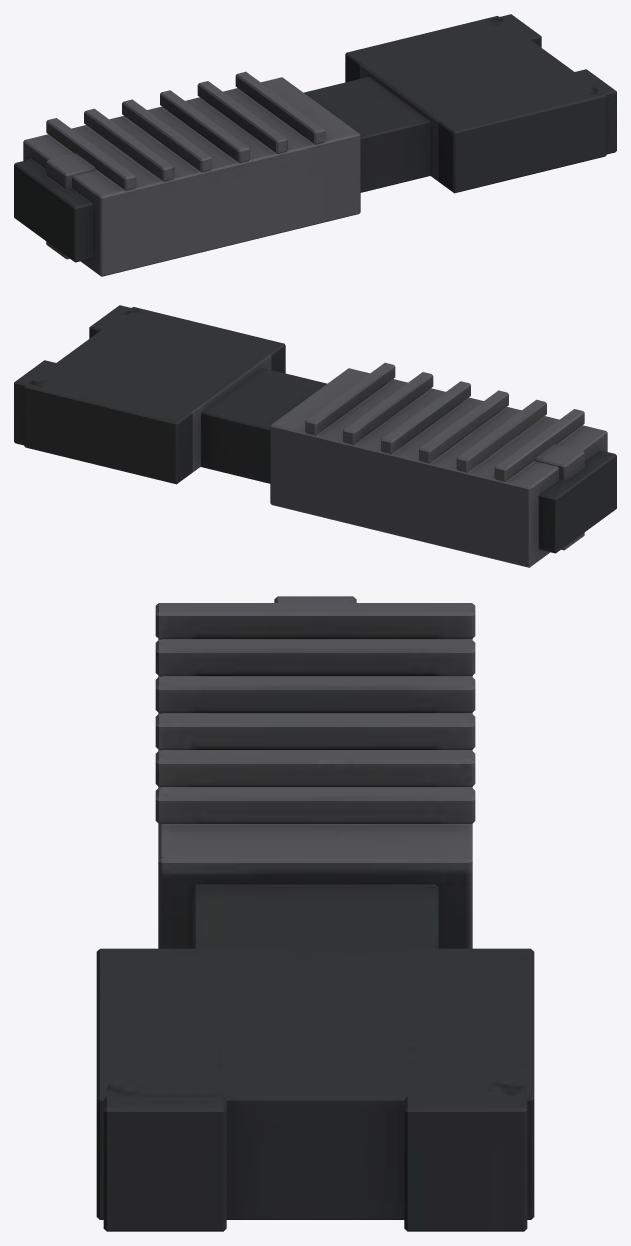
Rendered from IT_wrench_insulated.glb.
3 renders of one model, top to bottom at view 1: azimuth 30°, elevation 25°; view 2: azimuth 150°, elevation 25°; view 3: azimuth 270°, elevation 25°, orthographic. The views are drawn at different scales.
Parts seen in each view (by area): view 1: IT_wrench_insulated; view 2: IT_wrench_insulated; view 3: IT_wrench_insulated.
Boxes of the visible parts, box(x1,y1,x2,y2) form: IT_wrench_insulated: box(14, 14, 616, 276); IT_wrench_insulated: box(14, 305, 616, 567); IT_wrench_insulated: box(96, 596, 534, 1231).
Size of the model in its own units: 0.44 by 0.078 by 0.16.
1 material, 1 textured.
